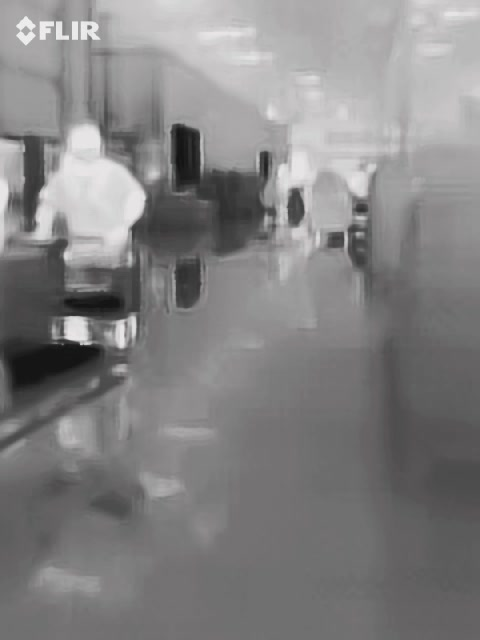head: (66, 121, 103, 165)
